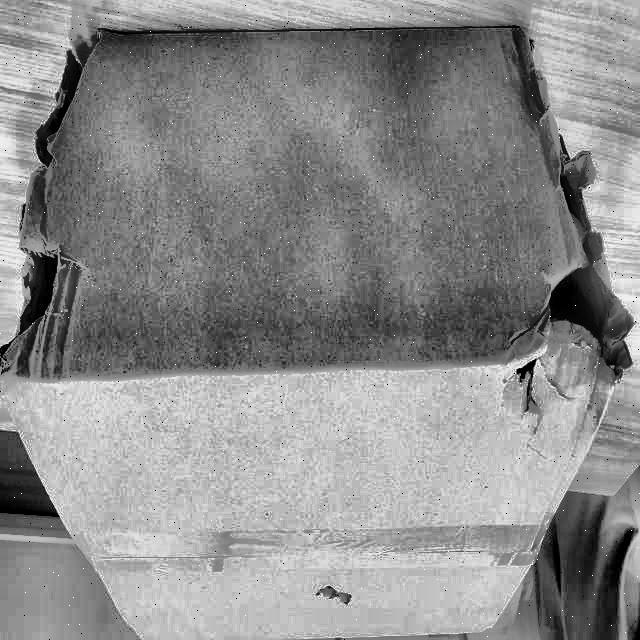box: (0, 13, 639, 640)
hole: (534, 166, 620, 374), (28, 39, 97, 183), (7, 249, 77, 366)
